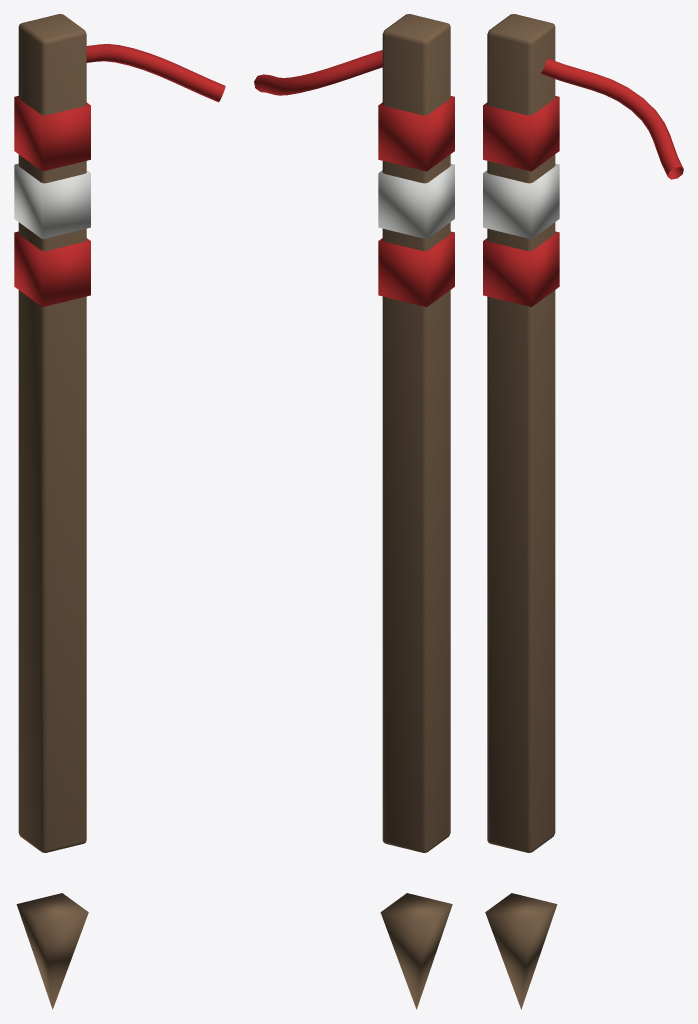
The model's file is stake.glb.
The picture shows the model from 3 angles, left to right: view 1: azimuth 30°, elevation 25°; view 2: azimuth 150°, elevation 25°; view 3: azimuth 330°, elevation 25°; orthographic projection.
Visible parts, largest first — view 1: stake.004, tip.005, band.014, band.016, band.015, flag_m; view 2: stake.004, tip.005, band.015, band.014, band.016, flag_m; view 3: stake.004, tip.005, band.015, band.014, band.016, flag_m.
Boxes of the visible parts, bbox=[...] form: stake.004: bbox=[18, 14, 86, 852]; tip.005: bbox=[16, 893, 88, 1009]; band.014: bbox=[14, 96, 90, 171]; band.016: bbox=[14, 231, 90, 306]; band.015: bbox=[14, 163, 90, 239]; flag_m: bbox=[86, 44, 225, 102]; stake.004: bbox=[382, 14, 450, 852]; tip.005: bbox=[380, 893, 452, 1009]; band.015: bbox=[378, 163, 454, 239]; band.014: bbox=[378, 96, 454, 171]; band.016: bbox=[378, 231, 454, 306]; flag_m: bbox=[254, 50, 382, 95]; stake.004: bbox=[487, 14, 555, 852]; tip.005: bbox=[485, 893, 557, 1009]; band.015: bbox=[483, 163, 559, 239]; band.014: bbox=[483, 96, 559, 171]; band.016: bbox=[483, 231, 559, 306]; flag_m: bbox=[541, 58, 683, 179].
Size of the model in its own units: 0.2953 by 1.45 by 0.0993.
